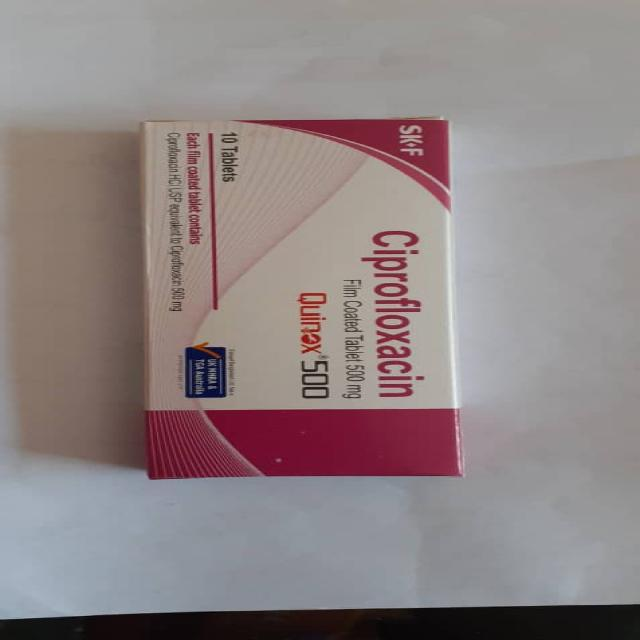drug-name: (361, 228, 425, 403)
